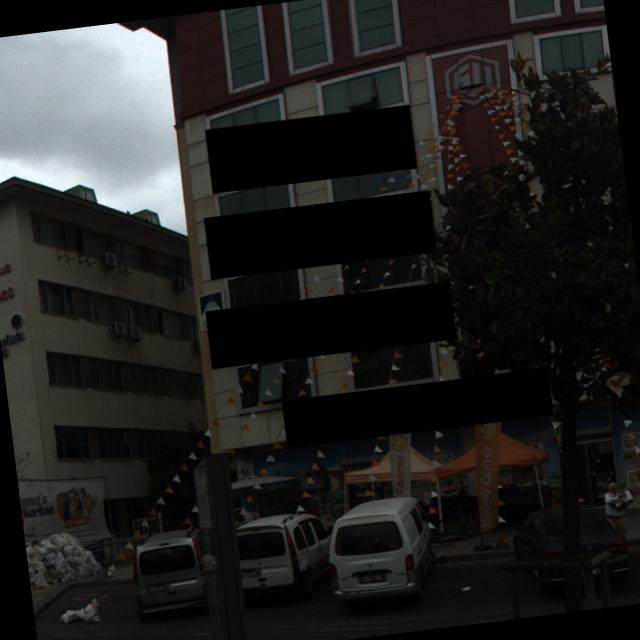SignStore: (207, 281, 455, 369), (206, 190, 433, 279), (282, 375, 552, 447), (208, 105, 414, 193)
